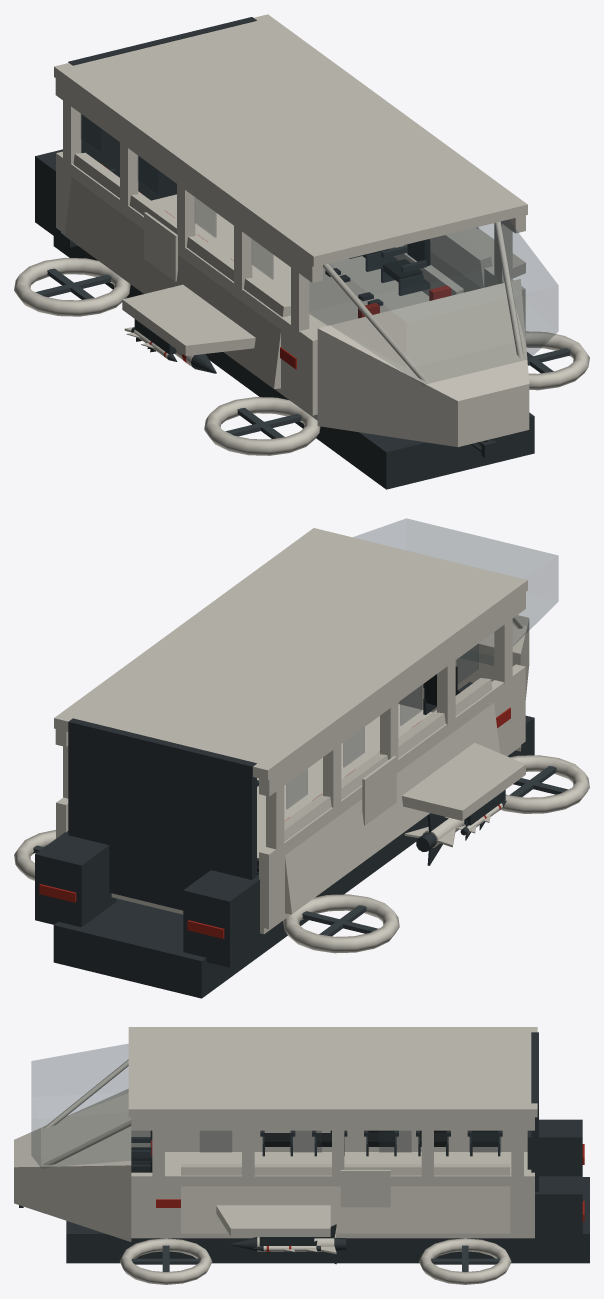
3 views of the same model, one above another, from view 1: azimuth 30°, elevation 25°; view 2: azimuth 150°, elevation 25°; view 3: azimuth 270°, elevation 25° (orthographic). The views are drawn at different scales.
Visible parts, largest first — view 1: hover-transport-painted, transport-roof-painted, hover-transport-glazing, transport-ramp-painted, crew-seating-batch-painted, rotor-lift--1-2.9-fleet-machine, rotor-lift--1--3.1-fleet-machine; view 2: hover-transport-painted, transport-roof-painted, transport-ramp-painted, hover-transport-glazing, store-hover-large--1-painted, rotor-lift--1--3.1-fleet-machine, rotor-lift--1-2.9-fleet-machine, crew-seating-batch-painted; view 3: hover-transport-painted, transport-roof-painted, hover-transport-glazing, crew-seating-batch-painted, transport-ramp-painted, store-hover-large-1-painted, rotor-lift-1-2.9-fleet-machine, rotor-lift-1--3.1-fleet-machine.
Part boxes in pixels (bbox=[...]): hover-transport-painted: bbox=[14, 149, 589, 489]; transport-roof-painted: bbox=[54, 14, 527, 332]; hover-transport-glazing: bbox=[81, 114, 558, 385]; transport-ramp-painted: bbox=[68, 17, 256, 200]; crew-seating-batch-painted: bbox=[99, 162, 451, 318]; rotor-lift--1-2.9-fleet-machine: bbox=[226, 408, 301, 438]; rotor-lift--1--3.1-fleet-machine: bbox=[35, 268, 111, 299]; hover-transport-painted: bbox=[14, 615, 589, 998]; transport-roof-painted: bbox=[54, 528, 527, 850]; transport-ramp-painted: bbox=[68, 718, 256, 910]; hover-transport-glazing: bbox=[286, 518, 558, 808]; store-hover-large--1-painted: bbox=[404, 815, 465, 865]; rotor-lift--1--3.1-fleet-machine: bbox=[302, 905, 377, 936]; rotor-lift--1-2.9-fleet-machine: bbox=[509, 766, 568, 796]; crew-seating-batch-painted: bbox=[257, 666, 472, 874]; hover-transport-painted: bbox=[14, 1059, 589, 1284]; transport-roof-painted: bbox=[128, 1027, 537, 1177]; hover-transport-glazing: bbox=[31, 1044, 500, 1168]; crew-seating-batch-painted: bbox=[131, 1130, 502, 1172]; transport-ramp-painted: bbox=[531, 1032, 538, 1192]; store-hover-large-1-painted: bbox=[230, 1224, 345, 1264]; rotor-lift-1-2.9-fleet-machine: bbox=[132, 1245, 200, 1271]; rotor-lift-1--3.1-fleet-machine: bbox=[431, 1245, 499, 1271].
Bounding box in the file's own units: 36.97 × 20.23 × 63.16.
